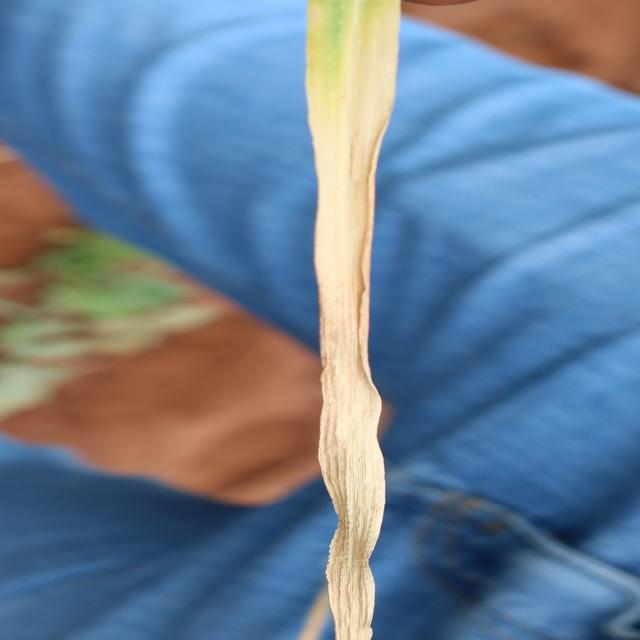Septoria: (303, 1, 404, 638)
